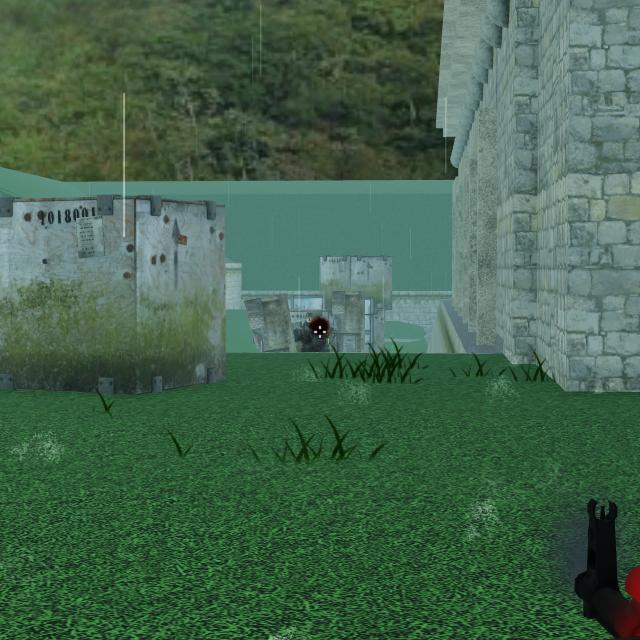Head: (306, 313, 321, 328)
Player: (295, 313, 327, 352)
